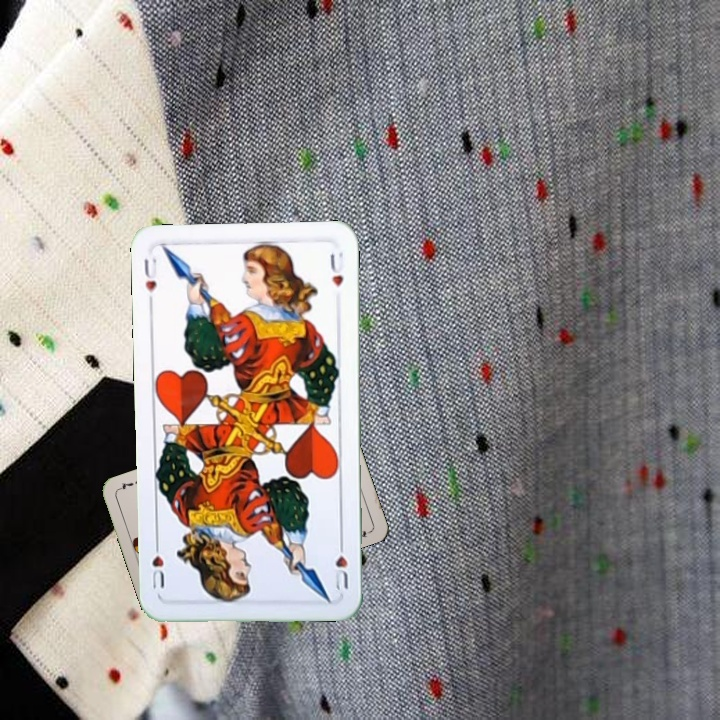HU: (331, 535, 350, 594), (140, 254, 159, 295)
